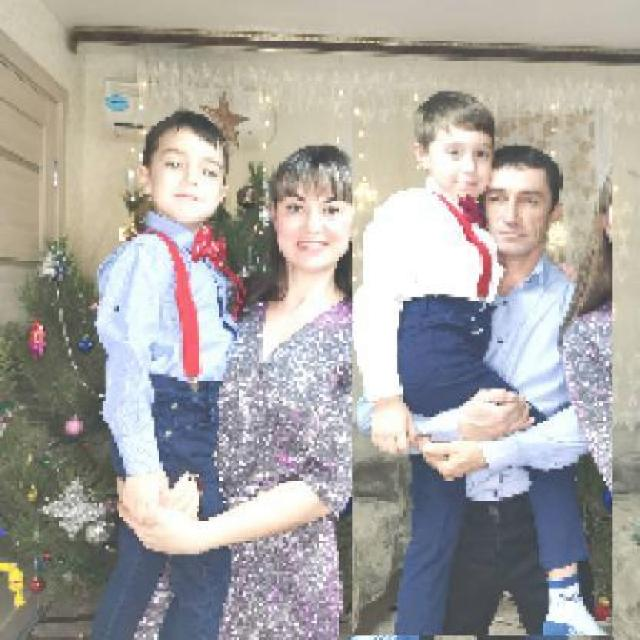child: (351, 89, 612, 637), (92, 108, 248, 638)
